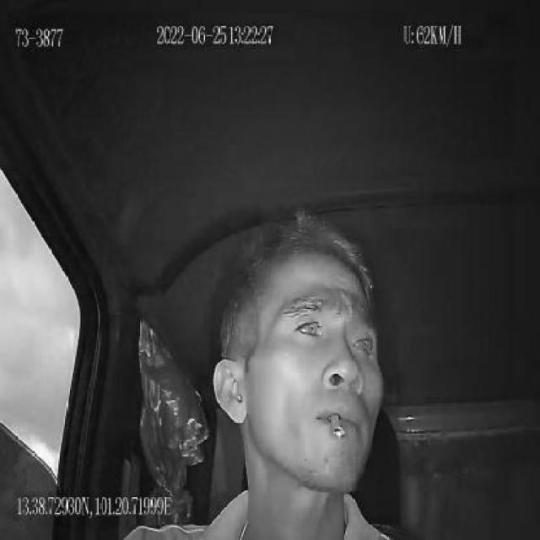smoking: (328, 412, 345, 442)
